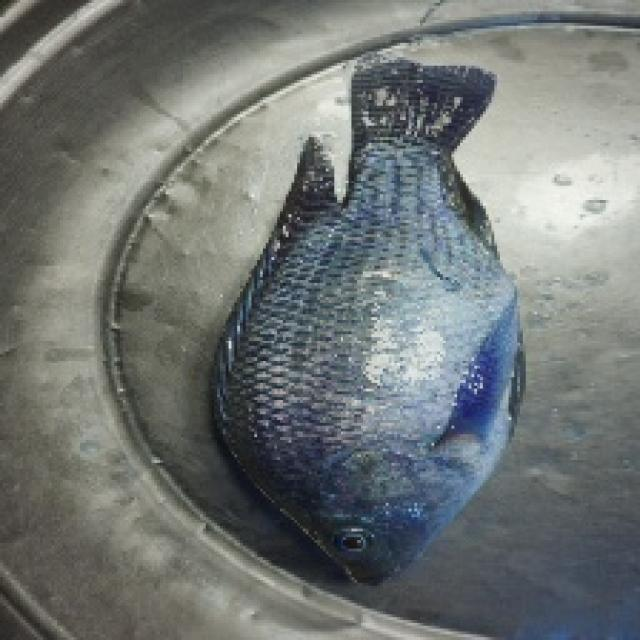Fresh: (266, 45, 520, 610)
